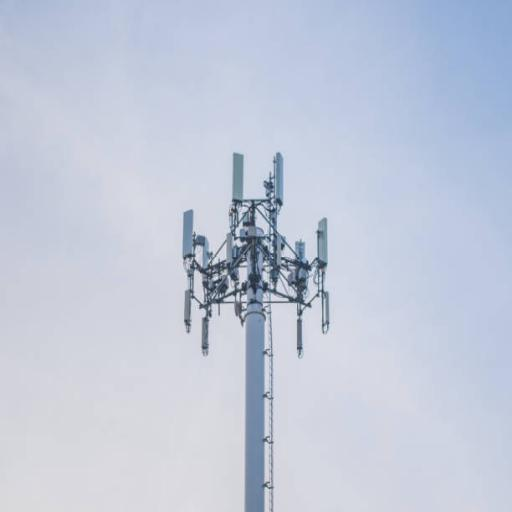monopole_tower: (164, 143, 342, 512)
